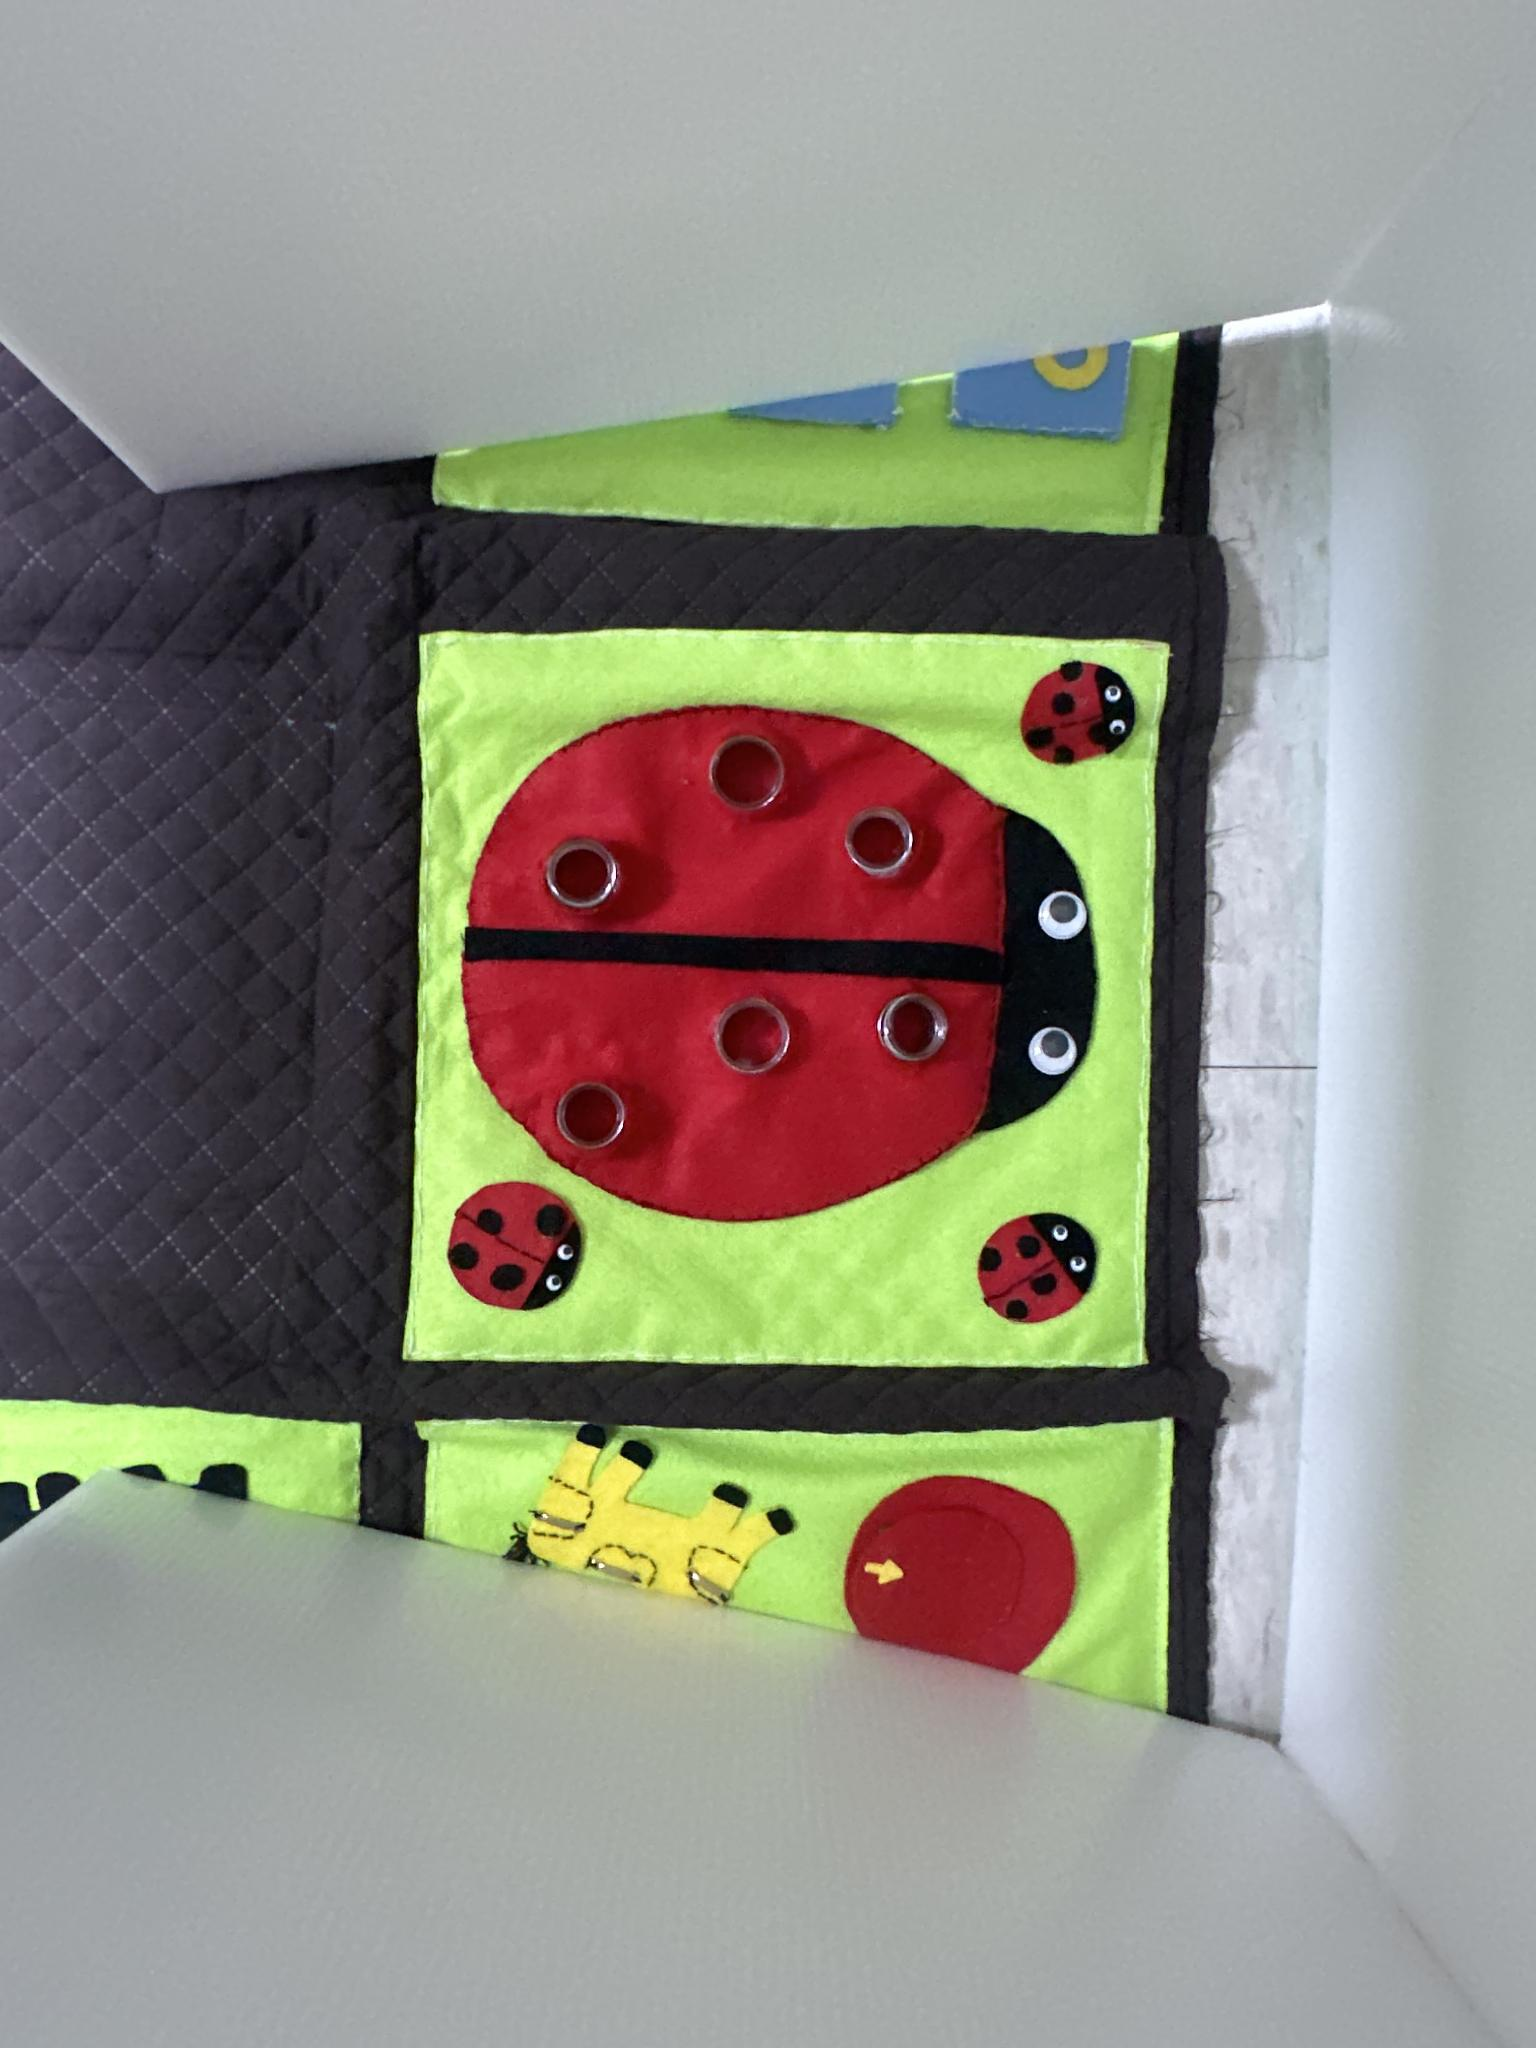hole: (712, 1001, 799, 1082), (878, 987, 965, 1066), (553, 829, 629, 919), (842, 798, 921, 879), (712, 727, 783, 810), (558, 1077, 632, 1155)
ladybug_case: (478, 692, 1104, 1232)
